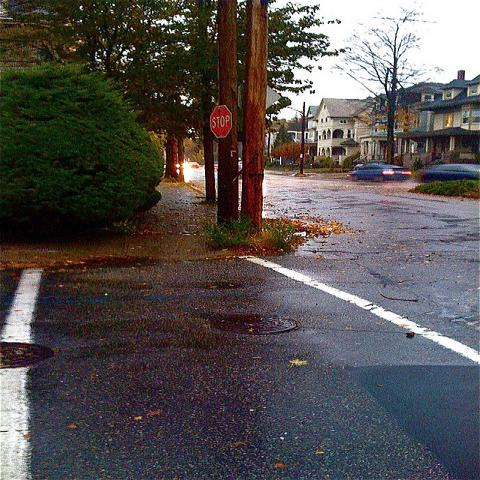car: (348, 164, 413, 182), (421, 163, 479, 183), (187, 162, 201, 169), (214, 160, 219, 170)
